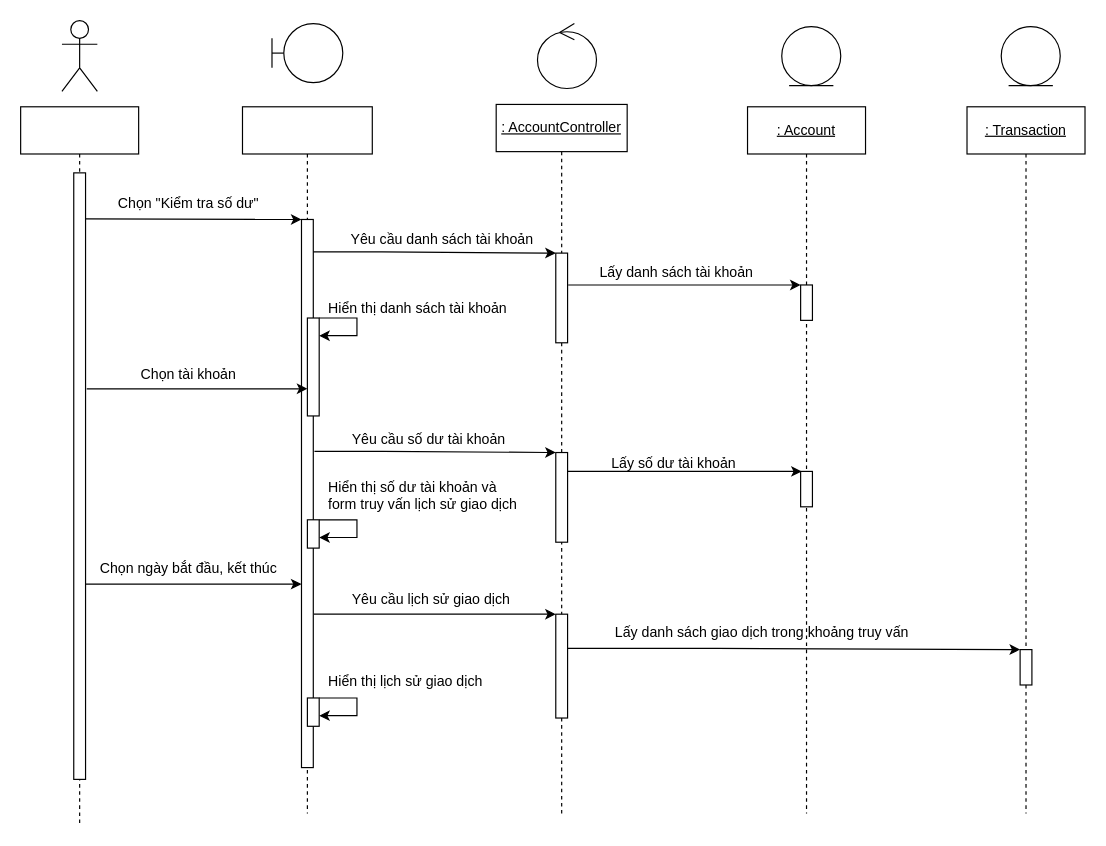
Some shapes in this 1106 by 846 pixel diagram are drawn without their labels. Here are the shapes that lost their labels. From the top down, the box of each, then its label:
(19, 106, 139, 825): : Customer
(241, 106, 372, 814): : UserInterface
